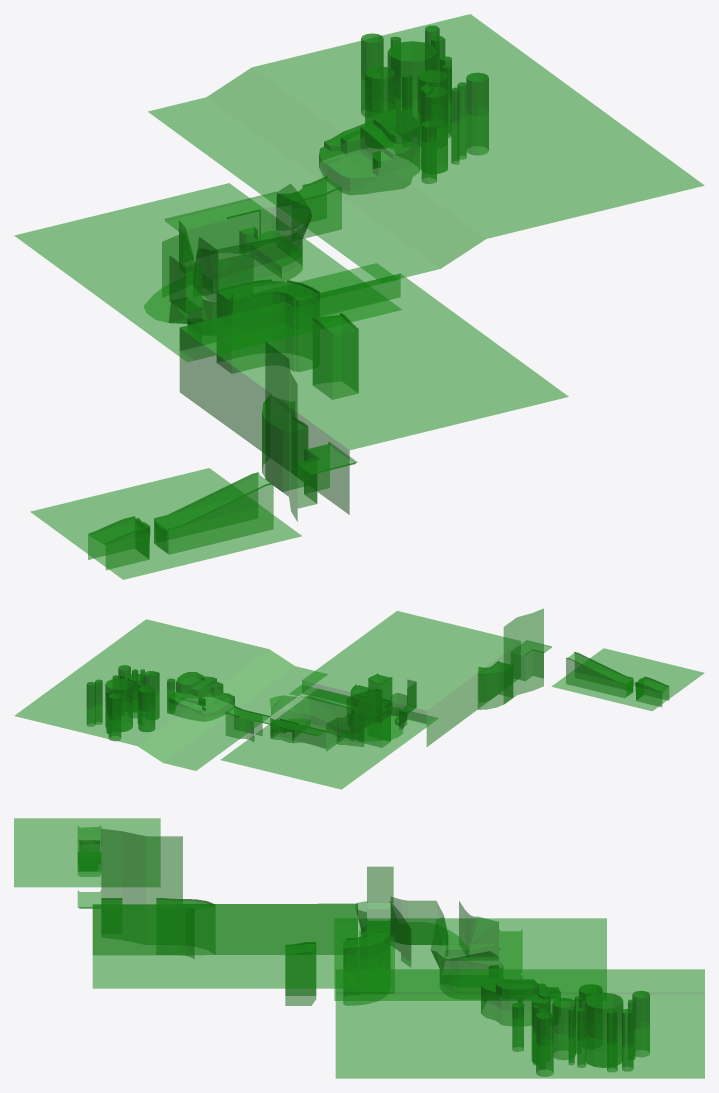
Rendered from hit_C.obj.
3 renders of one model, top to bottom at view 1: azimuth 30°, elevation 25°; view 2: azimuth 150°, elevation 25°; view 3: azimuth 270°, elevation 25°, orthographic. The views are drawn at different scales.
Size of the model in its own units: 482 by 81 by 466.
